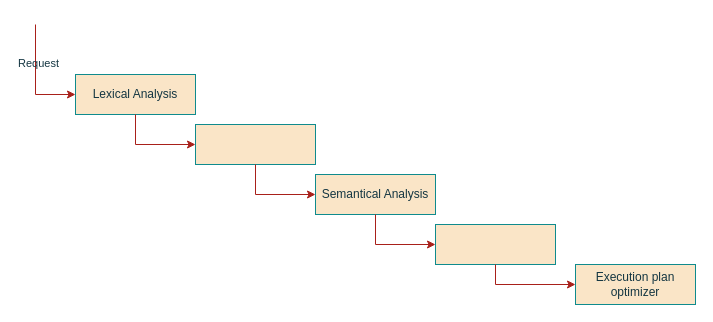
Some shapes in this 713 by 322 pixel diagram are drawn without their labels. Here are the shapes that lost their labels. From the top down, the centre of each, then its label:
pixel 255 144: Synthax Analysis
pixel 495 244: Execution plan generator
